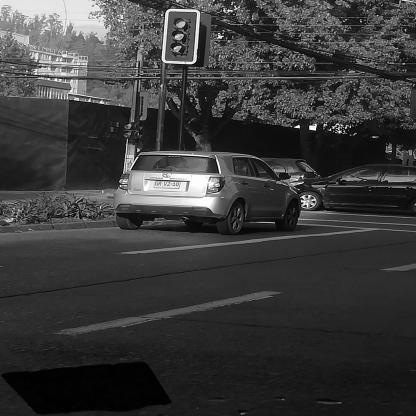Patente: (148, 177, 187, 194)
